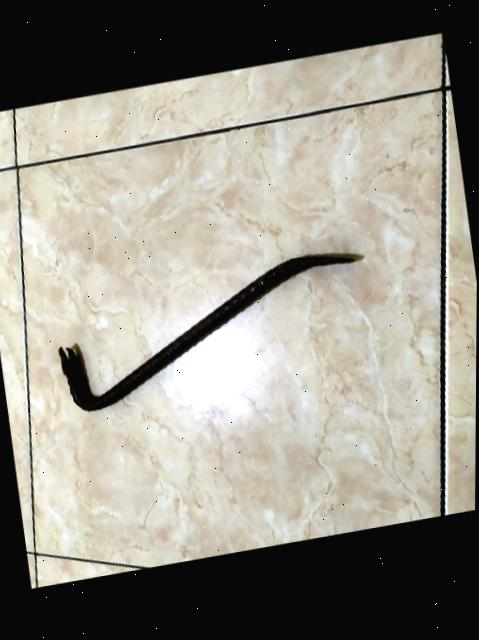crow bar: (38, 239, 369, 427)
